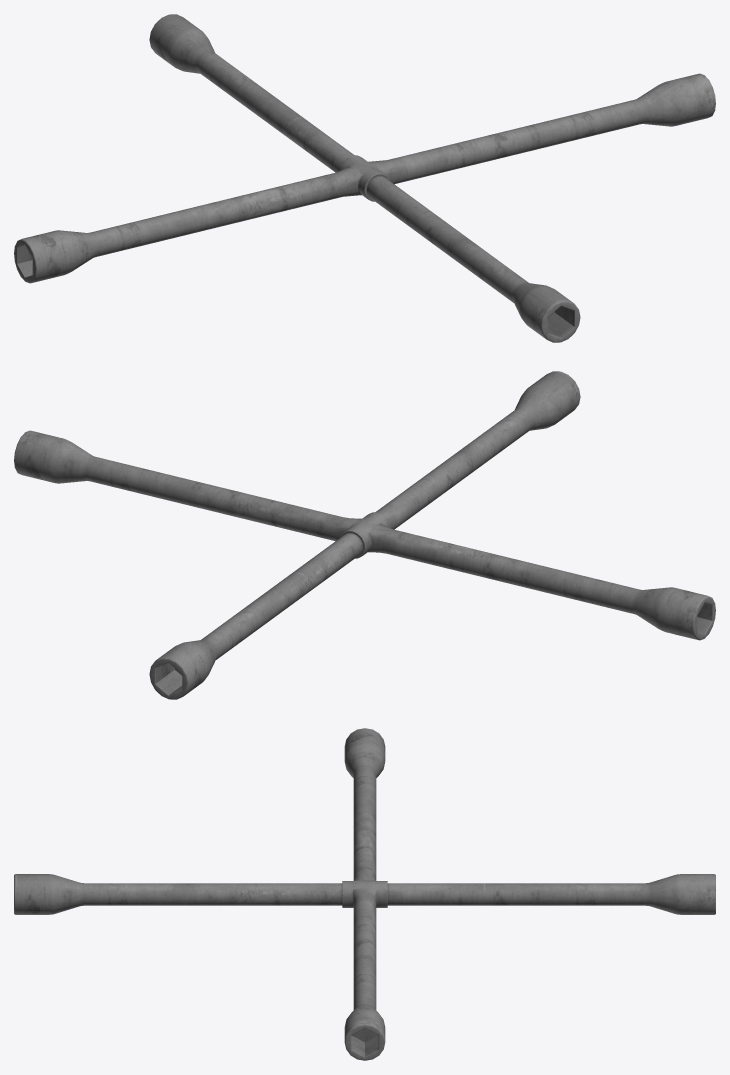
File: weel_wrench.glb
3 views of the same model, one above another, from view 1: azimuth 30°, elevation 25°; view 2: azimuth 150°, elevation 25°; view 3: azimuth 270°, elevation 25° (orthographic). The views are drawn at different scales.
Parts seen in each view (by area): view 1: CrossWheel_Spanner; view 2: CrossWheel_Spanner; view 3: CrossWheel_Spanner.
Part boxes in pixels (x1=…): CrossWheel_Spanner: x1=14, y1=14, x2=715, y2=342; CrossWheel_Spanner: x1=14, y1=371, x2=715, y2=699; CrossWheel_Spanner: x1=14, y1=728, x2=715, y2=1060.
Bounding box in the file's own units: 0.31 × 0.018 × 0.31.
Materials: 1 (1 with a texture image).
